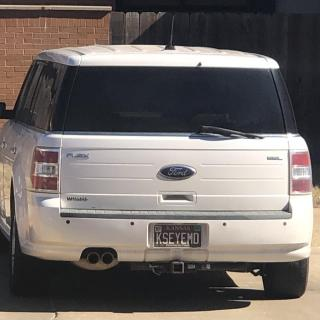license: (154, 226, 202, 249)
